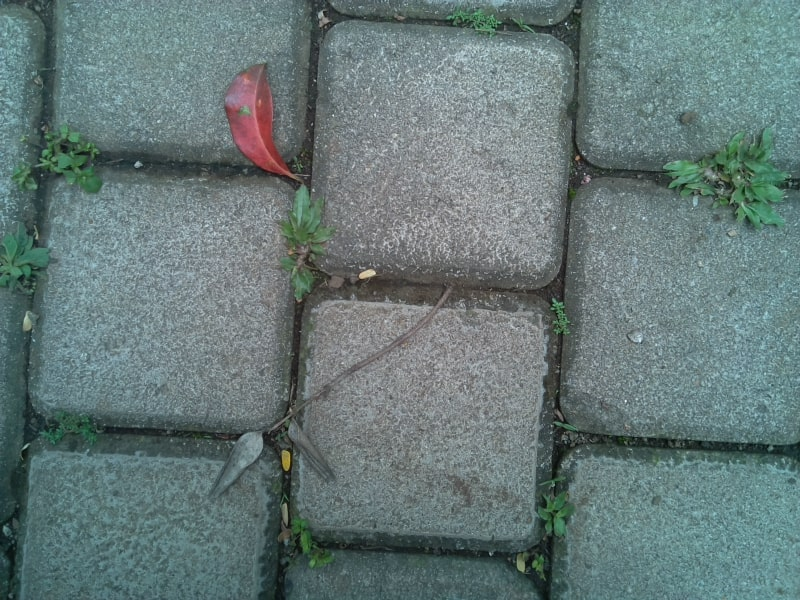Weed: (666, 127, 788, 237), (276, 184, 332, 303), (37, 127, 105, 196), (2, 220, 51, 292), (535, 473, 576, 538), (286, 516, 332, 567), (42, 412, 100, 449), (442, 6, 500, 37), (549, 296, 574, 336), (10, 161, 40, 194), (510, 13, 539, 39), (553, 417, 581, 437), (529, 553, 550, 575)
